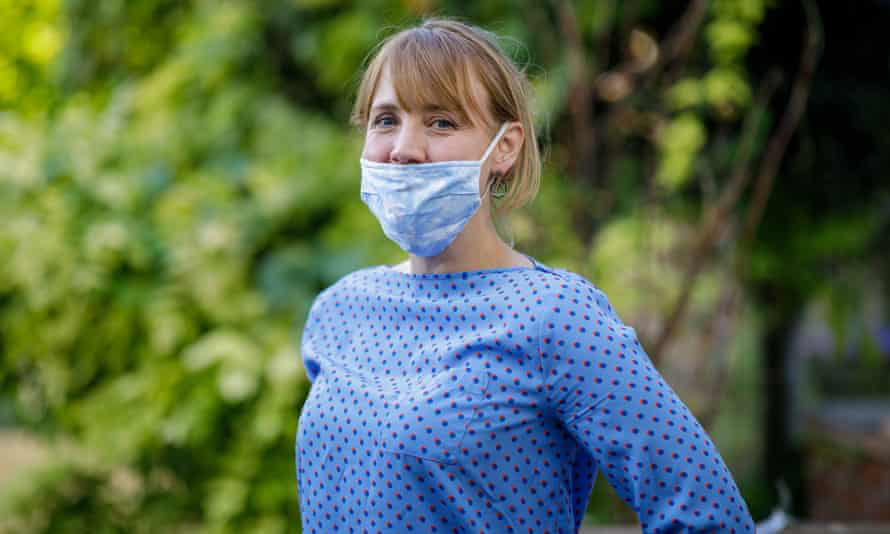mask_weared_incorrect: (361, 100, 484, 246)
